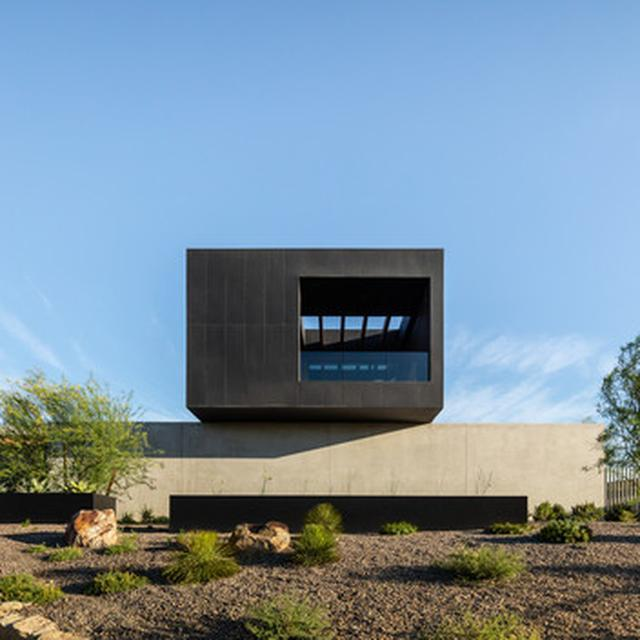building: (2, 244, 614, 526)
